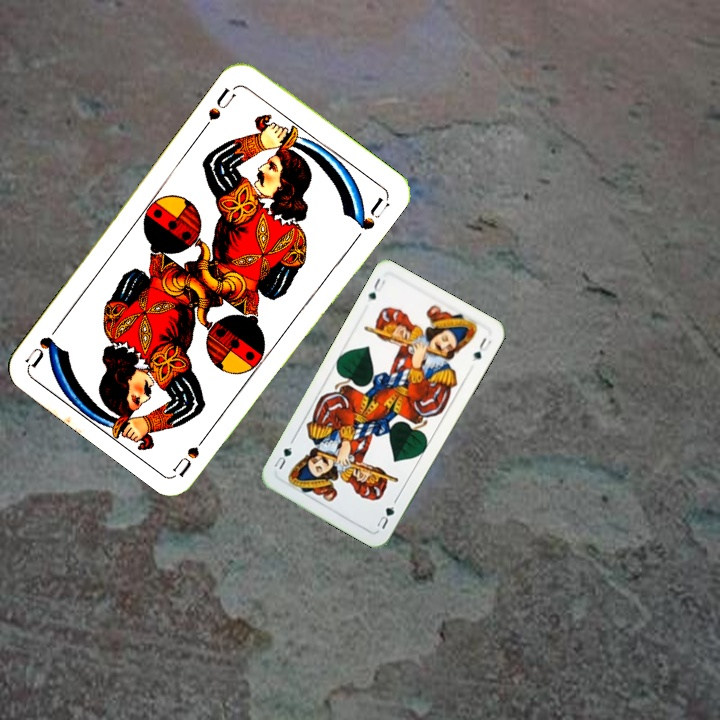GU: (373, 496, 399, 532), (363, 274, 388, 305)
SU: (169, 425, 214, 478), (198, 83, 239, 133)
